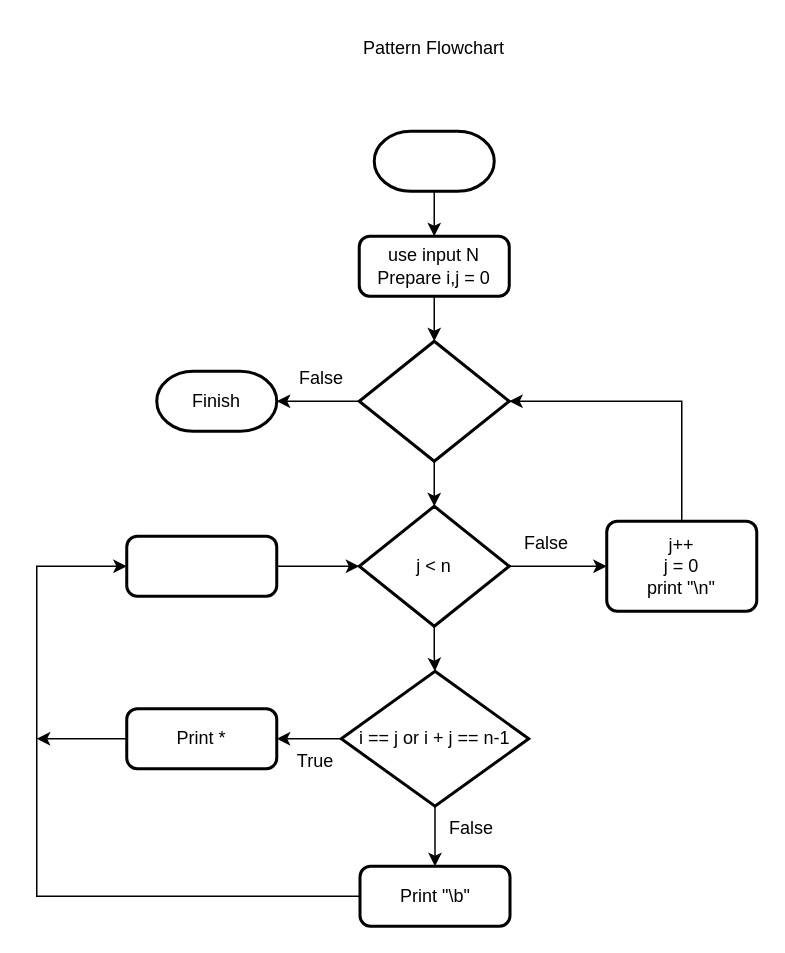
The diagram is 785 pixels wide and 953 high, and some of its shapes have lost their labels. Each missing label, with the centre of its shape:
i < n: (x=433, y=400)
j++: (x=201, y=565)
Mulai: (x=433, y=160)
